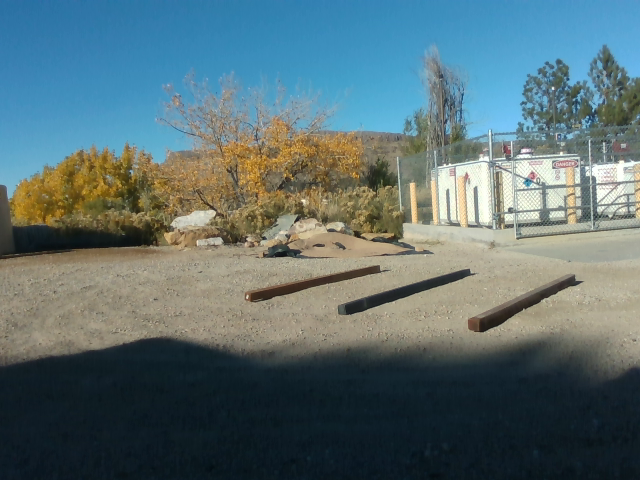Dunnage: (220, 264, 612, 338)
